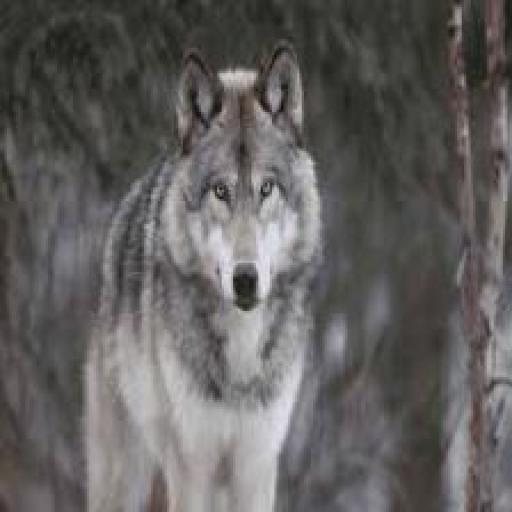wolf: (66, 25, 362, 512)
